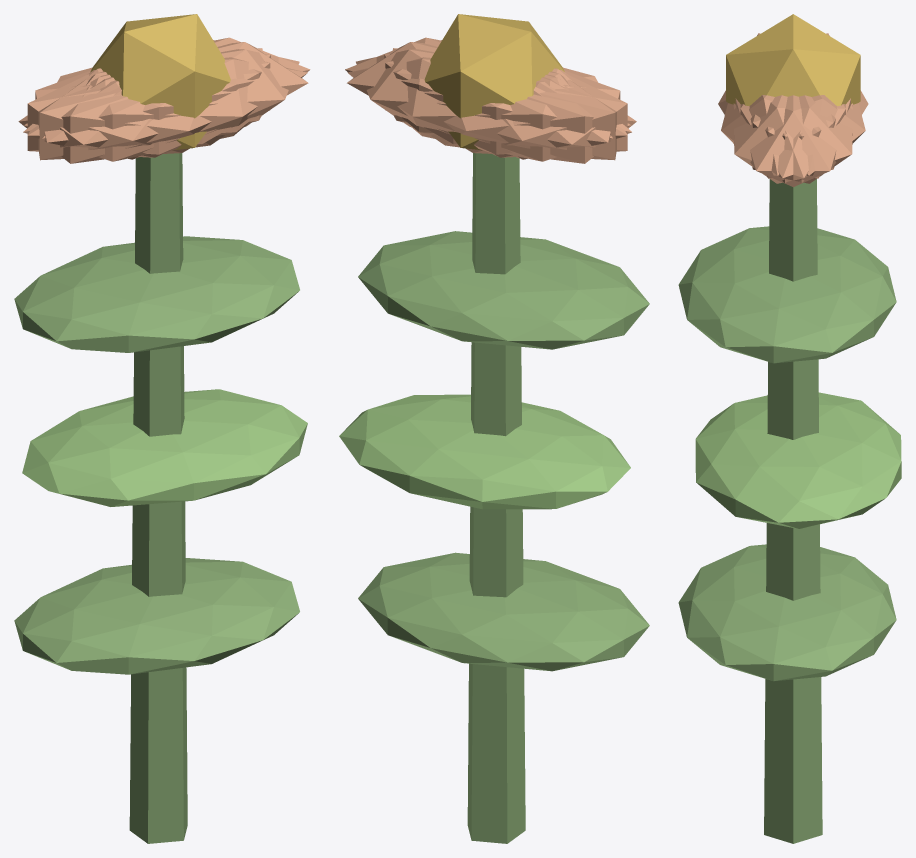
Rendered from calliandra-tergemina.glb.
3 renders of one model, left to right at view 1: azimuth 30°, elevation 25°; view 2: azimuth 150°, elevation 25°; view 3: azimuth 270°, elevation 25°, orthographic.
Visible parts, largest first — view 1: stem, leaf2, leaf0, leaf1, center, petal1, petal6, petal2, petal5, petal7, petal0, petal4 (+2 smaller); view 2: stem, leaf2, leaf1, leaf0, center, petal8, petal3, petal7, petal4, petal2, petal0, petal5 (+2 smaller); view 3: stem, leaf2, leaf1, leaf0, center, petal0, petal4, petal5, petal8, petal1.
Boxes of the visible parts, left/top/right/bottom form: stem: left=129, top=153, right=187, bottom=843; leaf2: left=14, top=236, right=299, bottom=352; leaf0: left=14, top=558, right=299, bottom=674; leaf1: left=22, top=389, right=307, bottom=506; center: left=90, top=14, right=230, bottom=150; petal1: left=23, top=57, right=307, bottom=161; petal6: left=18, top=70, right=224, bottom=163; petal2: left=38, top=48, right=262, bottom=160; petal5: left=42, top=49, right=299, bottom=154; petal7: left=27, top=54, right=270, bottom=157; petal0: left=90, top=42, right=308, bottom=144; petal4: left=24, top=37, right=310, bottom=135; stem: left=467, top=153, right=525, bottom=843; leaf2: left=358, top=231, right=649, bottom=349; leaf1: left=339, top=394, right=630, bottom=509; leaf0: left=358, top=552, right=649, bottom=671; center: left=424, top=14, right=564, bottom=150; petal8: left=347, top=57, right=631, bottom=161; petal3: left=430, top=70, right=636, bottom=163; petal7: left=392, top=48, right=616, bottom=160; petal4: left=356, top=49, right=612, bottom=154; petal2: left=384, top=54, right=627, bottom=157; petal0: left=347, top=42, right=565, bottom=144; petal5: left=345, top=37, right=630, bottom=135; stem: left=764, top=179, right=822, bottom=843; leaf2: left=678, top=226, right=896, bottom=363; leaf1: left=695, top=392, right=901, bottom=528; leaf0: left=678, top=544, right=896, bottom=681; center: left=726, top=14, right=860, bottom=106; petal0: left=735, top=95, right=850, bottom=187; petal4: left=740, top=95, right=852, bottom=183; petal5: left=733, top=95, right=845, bottom=183; petal8: left=750, top=95, right=865, bottom=175; petal1: left=721, top=95, right=835, bottom=175.
Bounding box in the file's own units: 0.1452 × 0.4006 × 0.1013.
